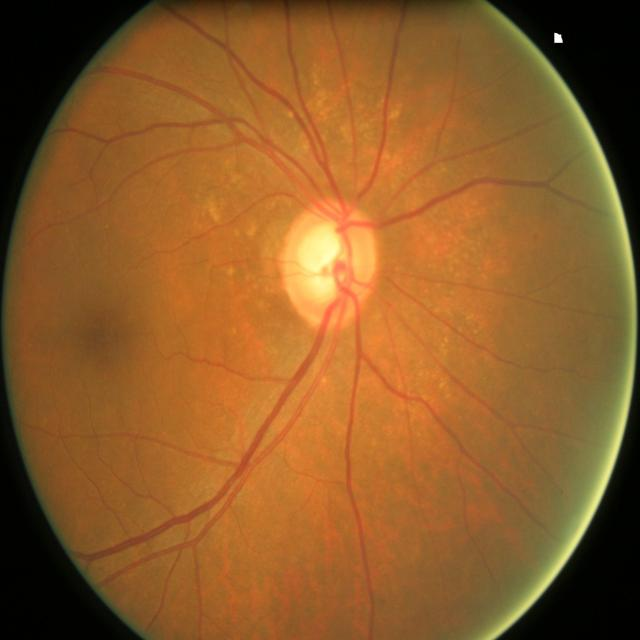OC: (295, 221, 346, 301)
OD: (284, 202, 381, 328)
